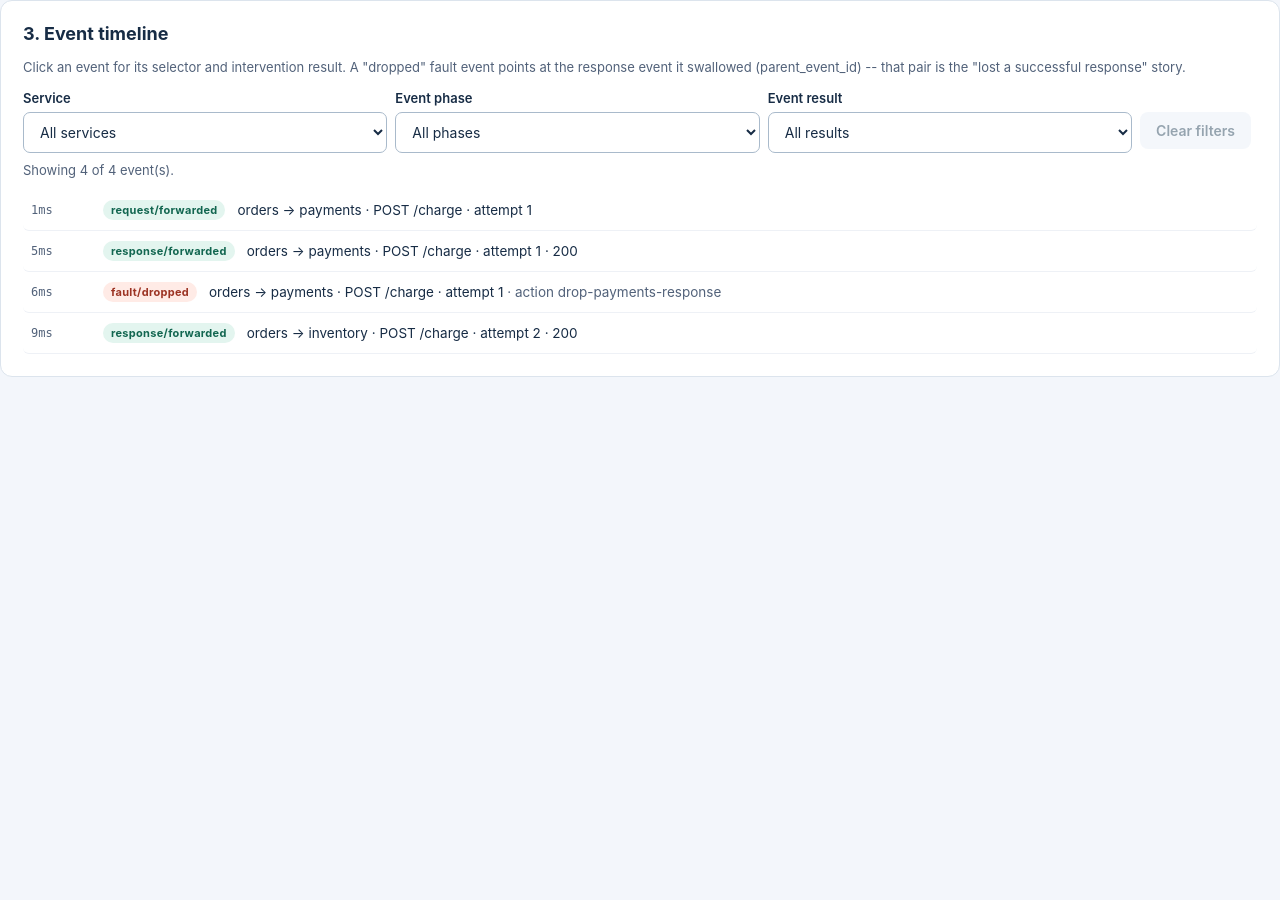
Test: <EventTimeline/> › says when the action is not part of the loaded scenario
What coordinates should you click on to do the following:
click the button "fault/dropped"
I would click on:
 (640, 292)
Its box is [23, 272, 1257, 313].
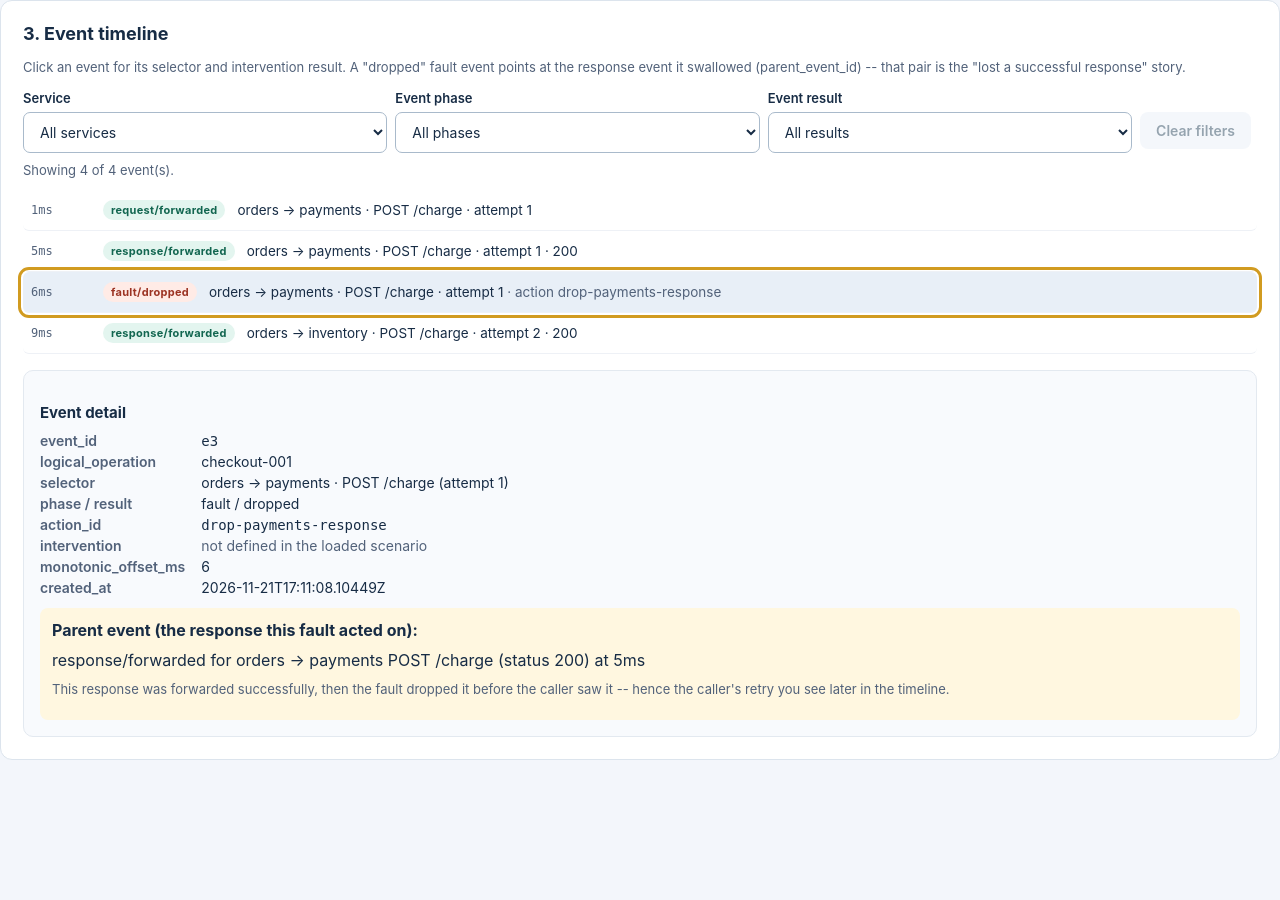
Result: the text "not defined in the loaded scenario" is shown at [201, 537, 427, 554]
